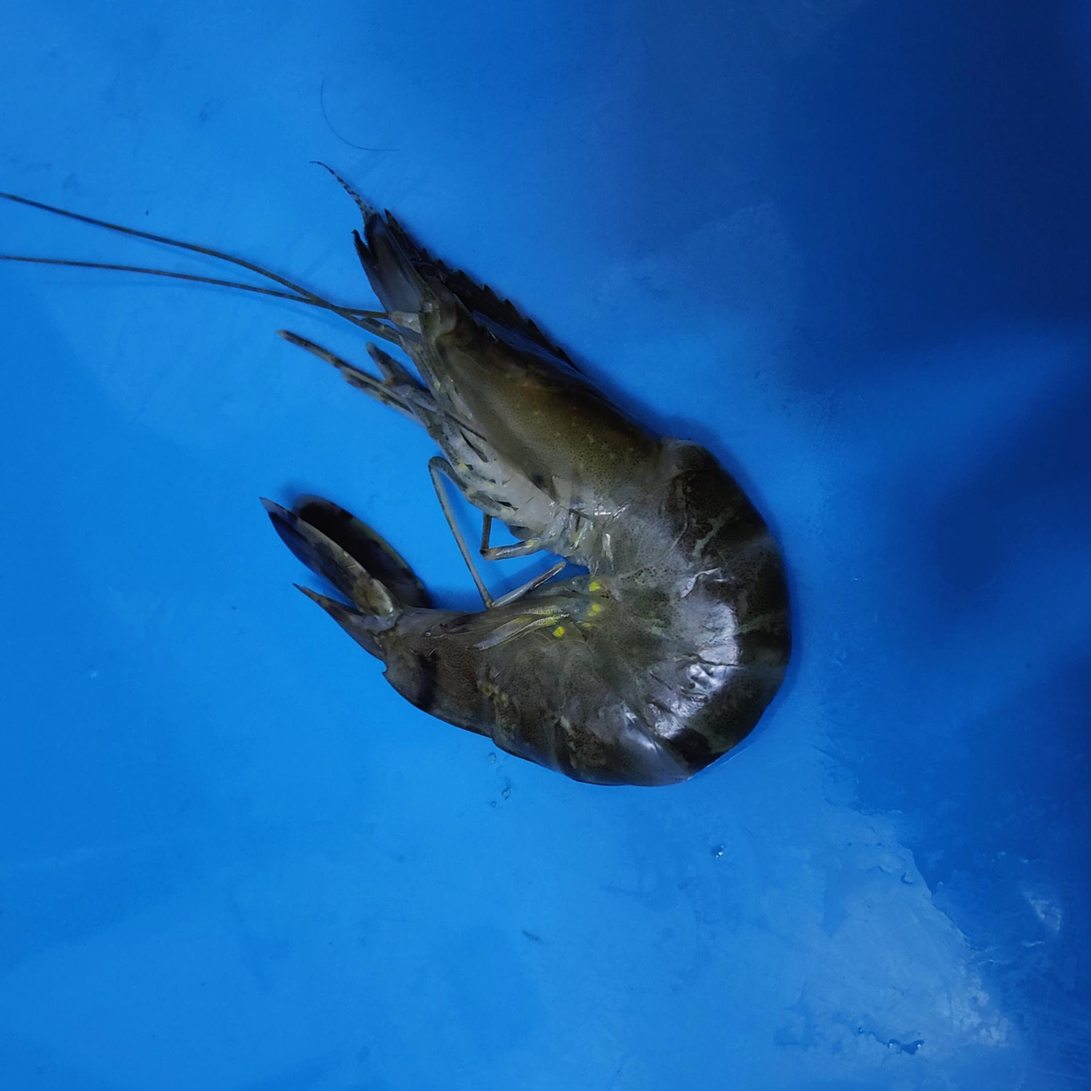whitespot: (478, 338, 700, 556)
